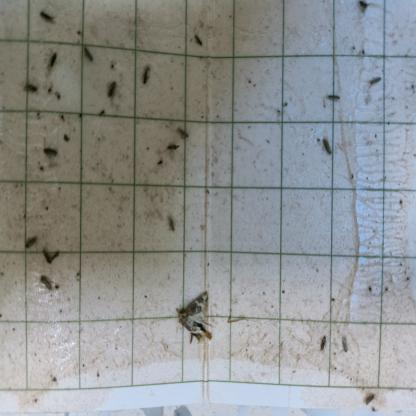prays_oleae: (40, 245, 61, 266), (178, 120, 193, 149), (41, 139, 60, 161), (191, 31, 206, 53), (39, 7, 56, 26), (322, 135, 334, 161), (80, 41, 94, 61), (22, 78, 37, 96), (319, 331, 329, 358), (39, 273, 52, 293), (48, 48, 59, 71), (369, 70, 383, 88), (340, 333, 350, 356), (22, 234, 37, 249), (326, 93, 342, 107), (166, 136, 180, 152), (107, 79, 118, 99), (140, 67, 153, 82), (366, 391, 376, 406)
